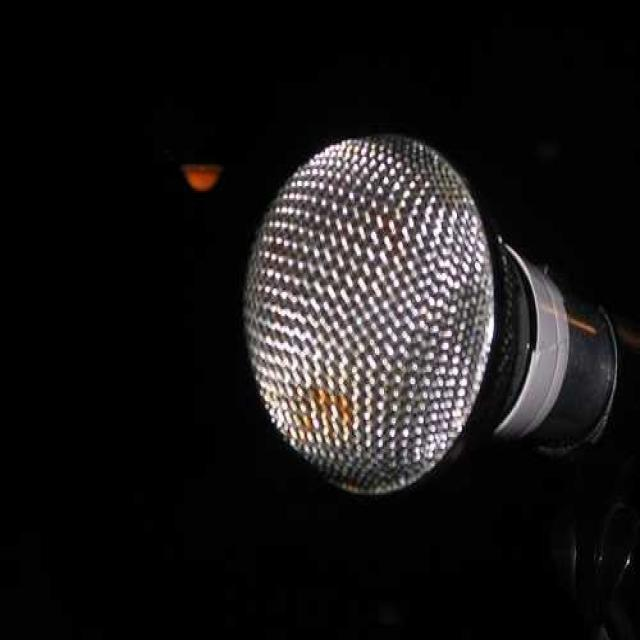microphone: (239, 126, 616, 478)
